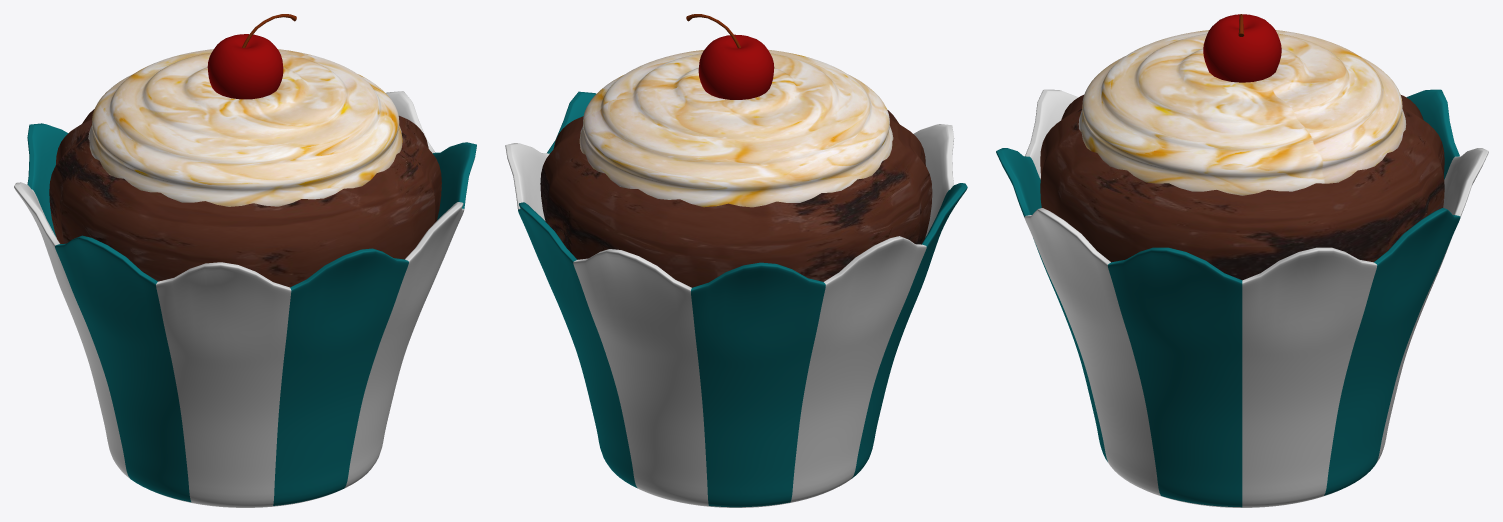
The model's file is cupcake_exp.fbx.
3 views of the same model, side by side, from view 1: azimuth 30°, elevation 25°; view 2: azimuth 150°, elevation 25°; view 3: azimuth 270°, elevation 25° (orthographic). The views are drawn at different scales.
Visible parts, largest first — view 1: Teatime_q:pCylinder6, Teatime_q:pSphere2, Teatime_q:pSphere1, Teatime_q:pSphere3; view 2: Teatime_q:pCylinder6, Teatime_q:pSphere2, Teatime_q:pSphere1, Teatime_q:pSphere3; view 3: Teatime_q:pCylinder6, Teatime_q:pSphere2, Teatime_q:pSphere1, Teatime_q:pSphere3.
Boxes of the visible parts, box(x1,y1,x2,y2) form: Teatime_q:pCylinder6: box(14, 91, 476, 507); Teatime_q:pSphere2: box(88, 49, 402, 206); Teatime_q:pSphere1: box(49, 109, 441, 287); Teatime_q:pSphere3: box(207, 34, 283, 99); Teatime_q:pCylinder6: box(505, 91, 967, 507); Teatime_q:pSphere2: box(579, 49, 893, 207); Teatime_q:pSphere1: box(540, 110, 932, 287); Teatime_q:pSphere3: box(698, 34, 774, 99); Teatime_q:pCylinder6: box(996, 89, 1488, 507); Teatime_q:pSphere2: box(1078, 30, 1406, 195); Teatime_q:pSphere1: box(1040, 95, 1444, 280); Teatime_q:pSphere3: box(1203, 14, 1281, 82).
Bounding box in the file's own units: 1.54 × 1.63 × 1.62.
